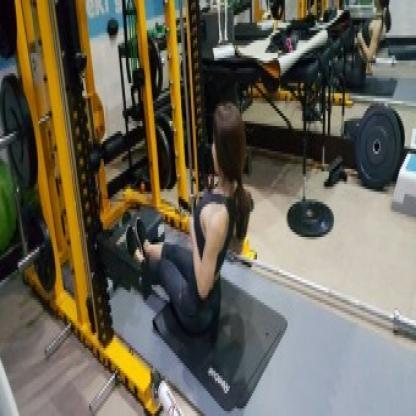Seated Cable Rows: (0, 0, 277, 416)
